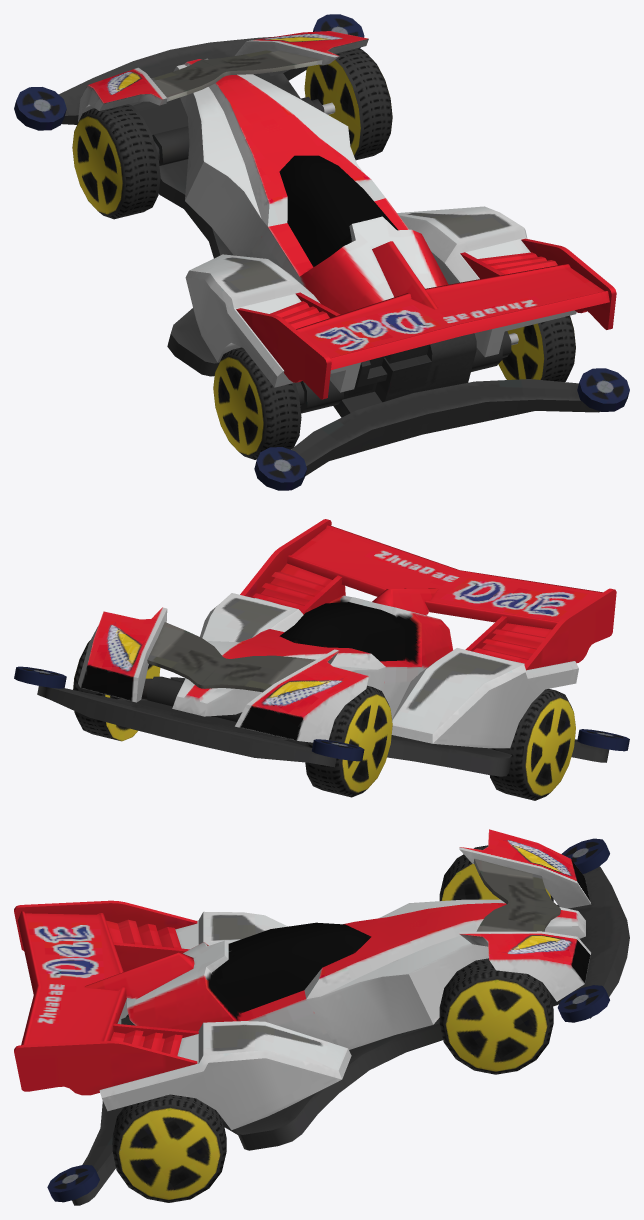
Rendered from ref_gtracecar.glb.
3 renders of one model, top to bottom at view 1: azimuth 30°, elevation 25°; view 2: azimuth 150°, elevation 25°; view 3: azimuth 270°, elevation 25°, orthographic.
Parts seen in each view (by area): view 1: ref_gtracecar_part1, ref_gtracecar_part0; view 2: ref_gtracecar_part1, ref_gtracecar_part0; view 3: ref_gtracecar_part1, ref_gtracecar_part0.
Boxes of the visible parts, left/top/right/bottom form: ref_gtracecar_part1: left=14, top=14, right=629, bottom=490; ref_gtracecar_part0: left=72, top=48, right=575, bottom=459; ref_gtracecar_part1: left=14, top=519, right=629, bottom=776; ref_gtracecar_part0: left=73, top=640, right=575, bottom=800; ref_gtracecar_part1: left=14, top=829, right=629, bottom=1205; ref_gtracecar_part0: left=112, top=845, right=553, bottom=1202.
Bounding box in the file's own units: 0.6948 × 0.4269 × 1.
2 materials, 2 textured.
